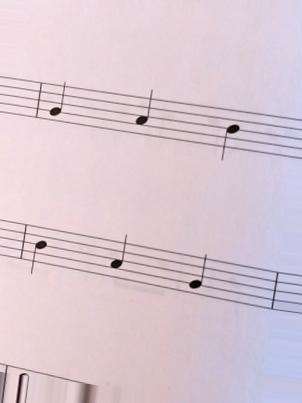A: (132, 86, 156, 145), (107, 232, 131, 287)
B: (217, 102, 242, 164), (25, 220, 49, 281)
G: (186, 247, 210, 304), (46, 76, 70, 130)
